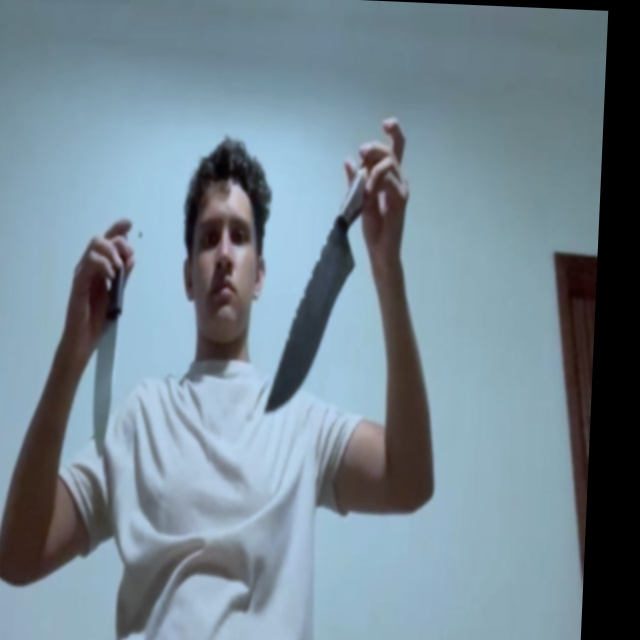Sharp-Object: (266, 223, 356, 420), (90, 310, 120, 464)
